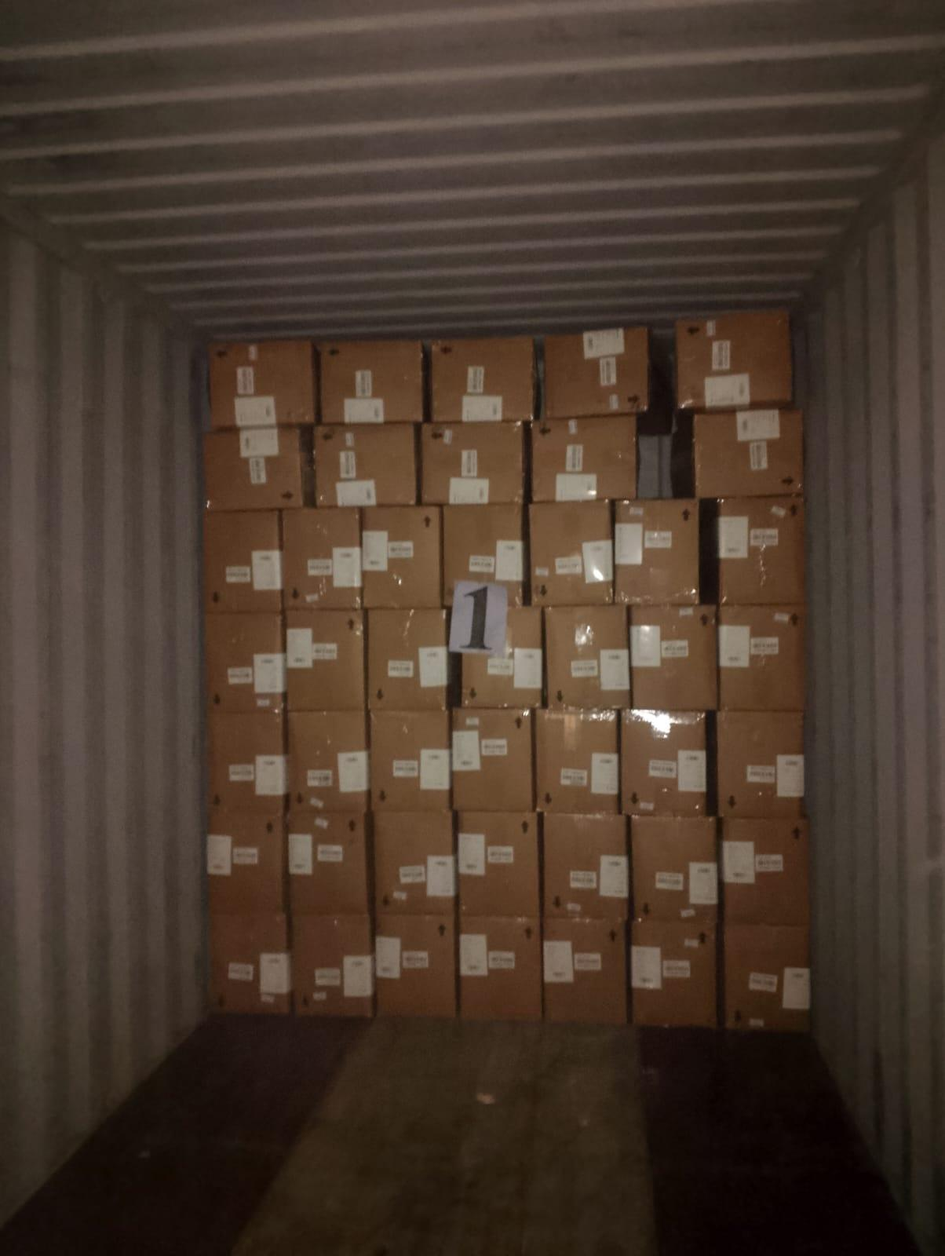carton: (674, 308, 792, 411), (675, 407, 803, 498), (703, 495, 805, 604), (207, 338, 319, 429), (544, 326, 651, 418), (720, 817, 810, 926), (721, 922, 810, 1031), (716, 710, 804, 819), (629, 918, 716, 1028), (717, 604, 806, 710), (629, 604, 717, 711), (630, 815, 718, 921), (429, 336, 535, 424), (531, 414, 637, 502), (542, 812, 629, 919), (544, 603, 631, 710), (203, 425, 312, 510), (619, 710, 706, 816), (613, 498, 699, 604), (319, 339, 425, 425), (456, 603, 542, 709), (542, 916, 626, 1024), (421, 421, 527, 506), (441, 502, 527, 606), (458, 914, 542, 1020), (367, 608, 454, 710), (535, 707, 619, 812), (530, 500, 614, 605), (314, 422, 417, 507), (286, 810, 370, 914), (374, 810, 457, 915), (457, 811, 540, 916), (451, 706, 534, 811), (206, 911, 290, 1014), (291, 912, 374, 1016), (374, 912, 456, 1016), (360, 503, 441, 608), (280, 506, 362, 609), (287, 710, 369, 812), (284, 608, 366, 710), (370, 709, 451, 811), (204, 611, 286, 711), (206, 710, 286, 812), (202, 510, 282, 612), (206, 809, 286, 911)
